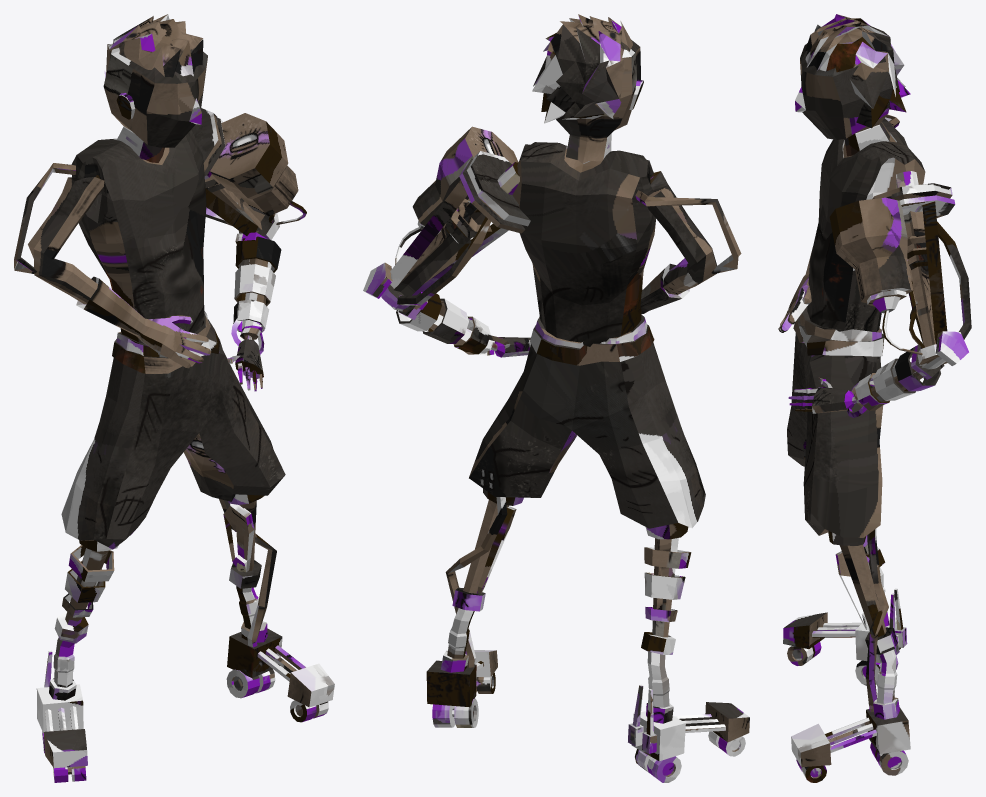
The model's file is CyborgFINALAnimation_000010.obj.
3 views of the same model, side by side, from view 1: azimuth 30°, elevation 25°; view 2: azimuth 150°, elevation 25°; view 3: azimuth 270°, elevation 25° (orthographic). The views are drawn at different scales.
Visible parts, largest first — view 1: CyborgMesh_Cube.002; view 2: CyborgMesh_Cube.002; view 3: CyborgMesh_Cube.002.
Part boxes in pixels (x1=…): CyborgMesh_Cube.002: x1=14, y1=14, x2=334, y2=782; CyborgMesh_Cube.002: x1=363, y1=14, x2=749, y2=782; CyborgMesh_Cube.002: x1=778, y1=14, x2=971, y2=782.
Bounding box in the file's own units: 4.42 × 9.63 × 2.41.
